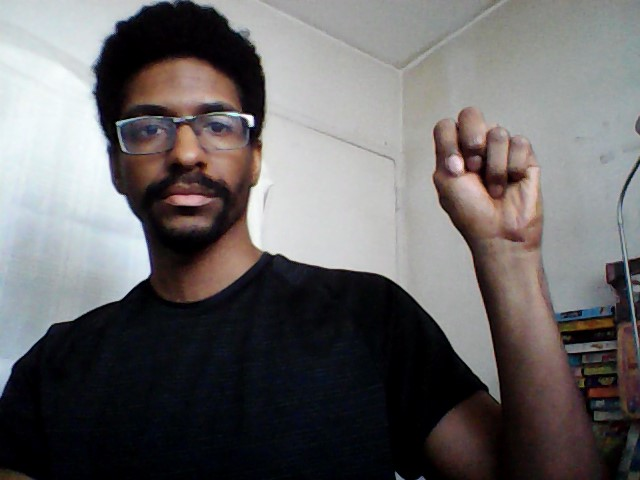n: (423, 104, 552, 252)
